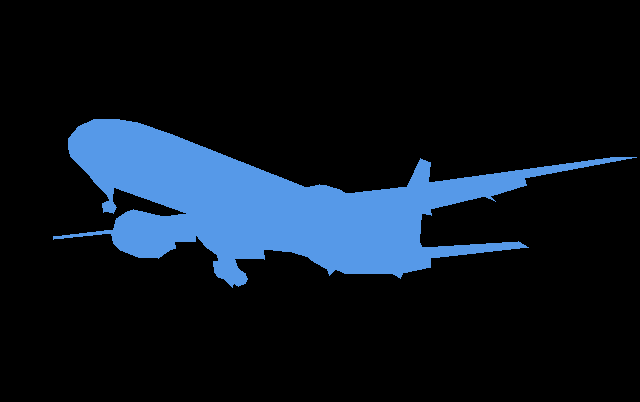Airplane: (53, 119, 636, 288)
